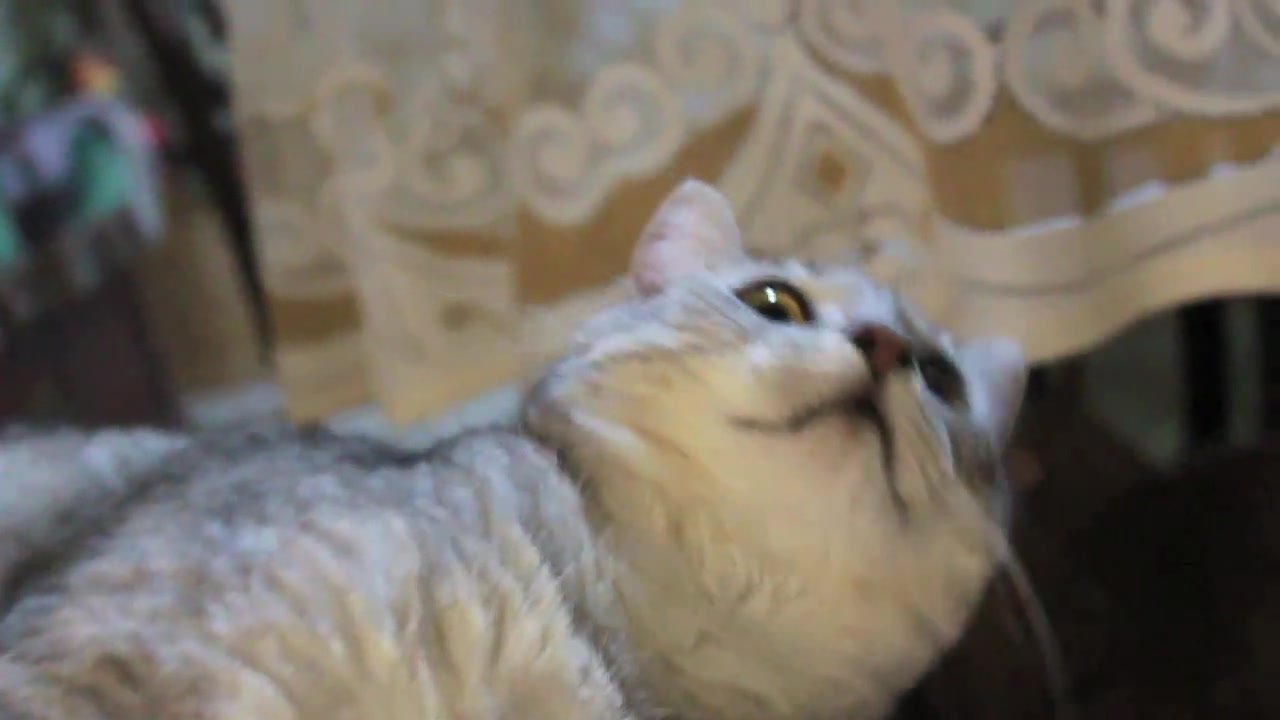cat: (1, 175, 1035, 720)
